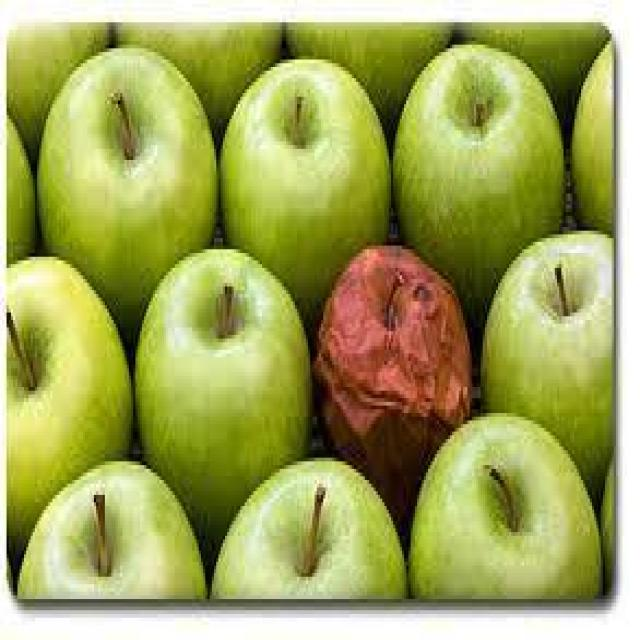maca: (7, 22, 616, 603)
